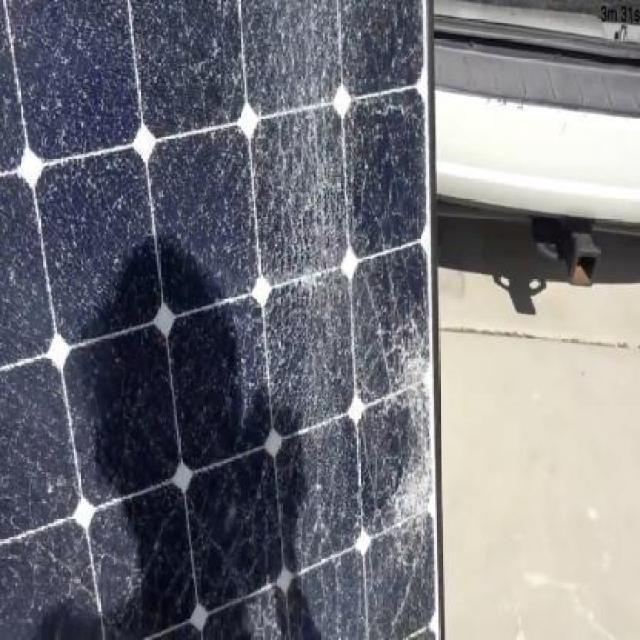cracked: (3, 0, 430, 639)
